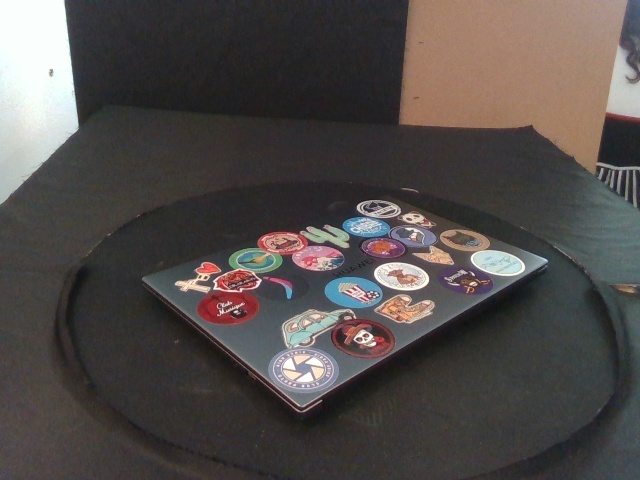laptop: (141, 193, 549, 419)
